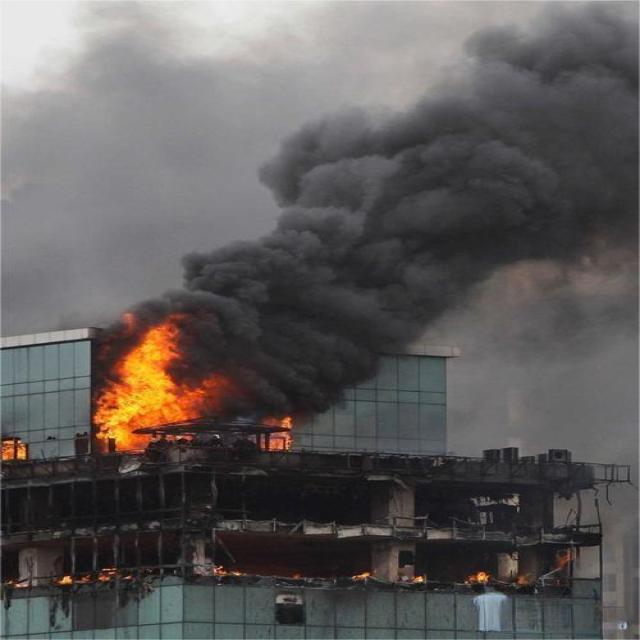Fire: (92, 326, 220, 451)
Smoke: (175, 0, 640, 393)
